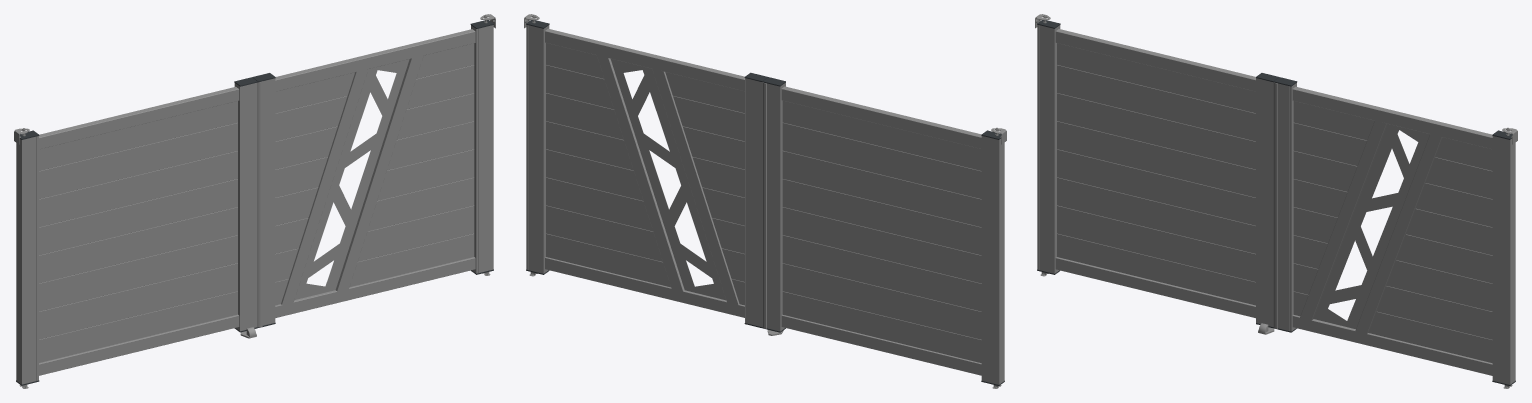
3 views of the same model, side by side, from view 1: azimuth 30°, elevation 25°; view 2: azimuth 150°, elevation 25°; view 3: azimuth 330°, elevation 25° (orthographic).
Parts seen in each view (by area): view 1: Rectangle067, OBLIQUE, Shape107412643, Shape107412971, Shape107412644, Shape107412972, Shape107412975, Shape163, Shape107412974, Shape107412973, Shape107412977, Shape107412976 (+1 smaller); view 2: Rectangle067, OBLIQUE, Shape107412643, Shape107412971, Shape107412972, Shape107412644, Shape107412975, Shape163, Shape107412974, Shape107412973, Shape107412977, Shape107412976 (+1 smaller); view 3: Rectangle067, OBLIQUE, Shape107412971, Shape107412643, Shape107412644, Shape107412972, Shape163, Shape107412974, Shape107412973, Shape107412975, Shape107412977, Shape107412976 (+1 smaller).
Part boxes in pixels (bbox=[...]): Rectangle067: bbox=[39, 43, 474, 362]; OBLIQUE: bbox=[294, 59, 409, 299]; Shape107412643: bbox=[16, 136, 38, 384]; Shape107412971: bbox=[471, 25, 493, 273]; Shape107412644: bbox=[234, 83, 257, 331]; Shape107412972: bbox=[259, 78, 275, 325]; Shape107412975: bbox=[335, 55, 423, 291]; Shape163: bbox=[39, 86, 239, 149]; Shape107412974: bbox=[275, 29, 475, 91]; Shape107412973: bbox=[281, 69, 368, 304]; Shape107412977: bbox=[39, 314, 239, 375]; Shape107412976: bbox=[275, 257, 475, 317]; Rectangle067: bbox=[546, 43, 981, 362]; OBLIQUE: bbox=[610, 59, 725, 300]; Shape107412643: bbox=[981, 136, 1004, 384]; Shape107412971: bbox=[526, 24, 549, 273]; Shape107412972: bbox=[745, 78, 762, 326]; Shape107412644: bbox=[764, 82, 785, 331]; Shape107412975: bbox=[597, 55, 684, 291]; Shape163: bbox=[781, 86, 981, 148]; Shape107412974: bbox=[545, 28, 744, 91]; Shape107412973: bbox=[652, 68, 739, 304]; Shape107412977: bbox=[781, 314, 981, 375]; Shape107412976: bbox=[545, 257, 744, 317]; Rectangle067: bbox=[1057, 43, 1492, 363]; OBLIQUE: bbox=[1314, 124, 1429, 329]; Shape107412971: bbox=[1492, 136, 1515, 384]; Shape107412643: bbox=[1037, 24, 1060, 273]; Shape107412644: bbox=[1256, 78, 1273, 326]; Shape107412972: bbox=[1275, 82, 1296, 331]; Shape163: bbox=[1055, 29, 1255, 91]; Shape107412974: bbox=[1292, 86, 1492, 149]; Shape107412973: bbox=[1300, 120, 1387, 320]; Shape107412975: bbox=[1355, 134, 1442, 333]; Shape107412977: bbox=[1055, 257, 1255, 318]; Shape107412976: bbox=[1292, 315, 1492, 375].
Size of the model in its own units: 3259 by 1693 by 116.
Materials: 7 (2 with a texture image).
